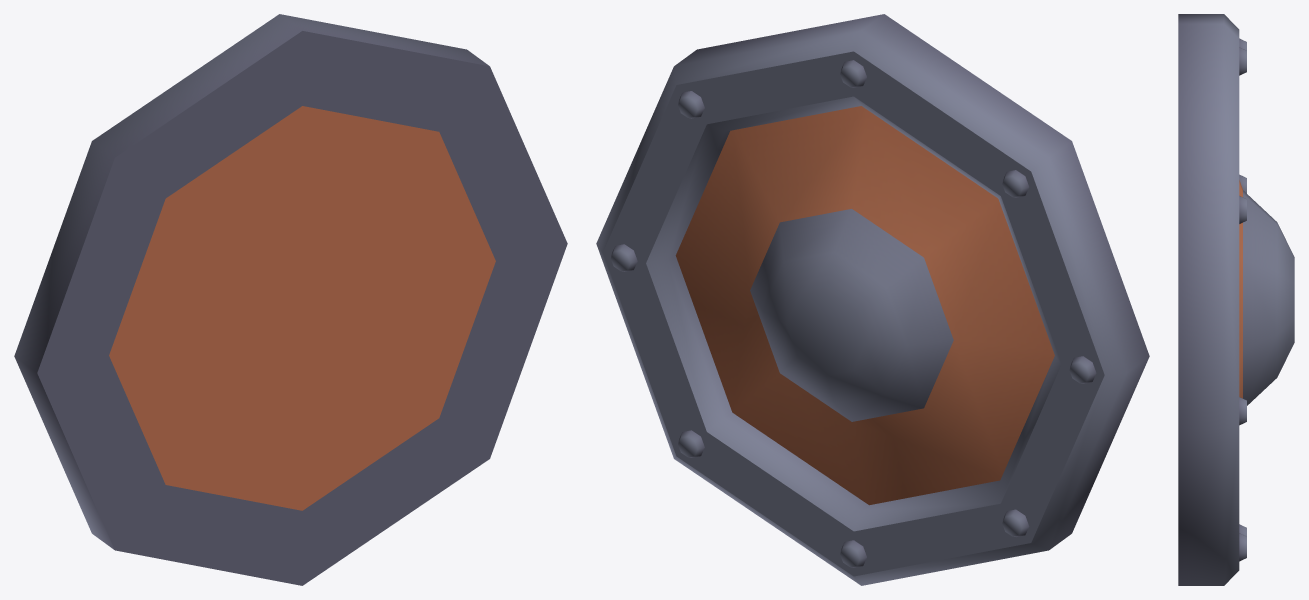
Rendered from shield-round-a.fbx.
The picture shows the model from 3 angles, left to right: view 1: azimuth 30°, elevation 25°; view 2: azimuth 150°, elevation 25°; view 3: azimuth 270°, elevation 25°; orthographic projection.
Visible parts, largest first — view 1: shield-round-a; view 2: shield-round-a; view 3: shield-round-a.
Boxes of the visible parts, left/top/right/bottom form: shield-round-a: left=14, top=14, right=567, bottom=585; shield-round-a: left=596, top=14, right=1149, bottom=585; shield-round-a: left=1178, top=14, right=1294, bottom=585.
Bounding box in the file's own units: 400 × 400 × 76.31.
1 material, 1 textured.
